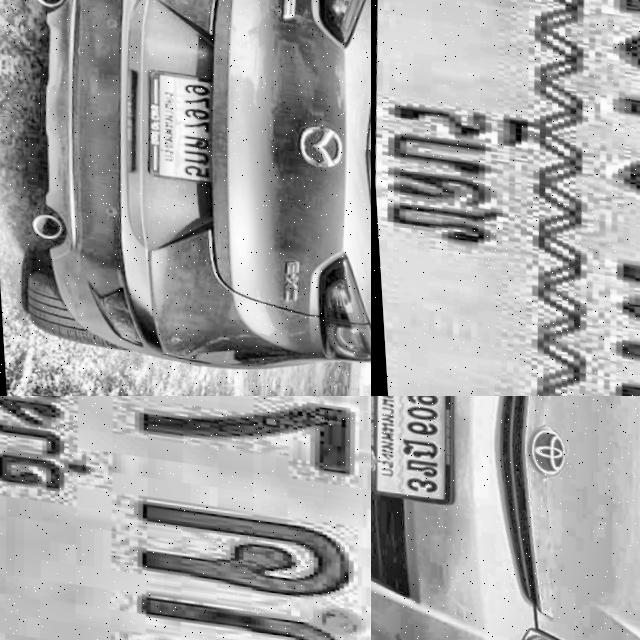license-plate: (371, 0, 640, 396), (0, 396, 371, 640), (128, 53, 234, 192), (371, 396, 462, 504)
